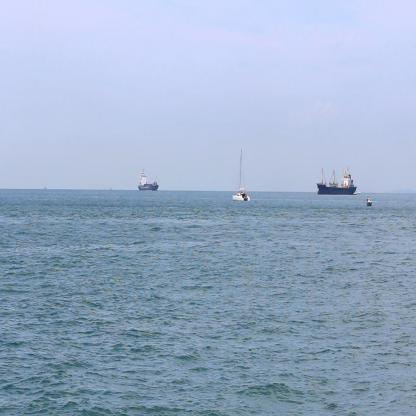Container Ship: (316, 167, 358, 196), (137, 169, 159, 192)
